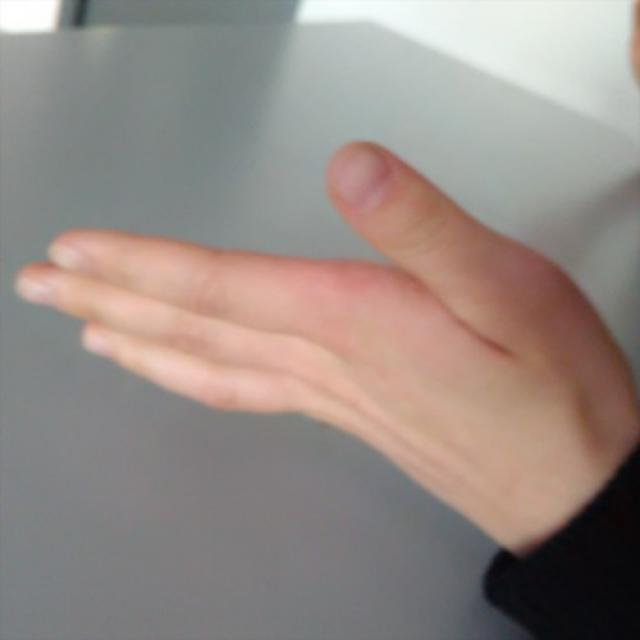paper: (12, 141, 564, 479)
